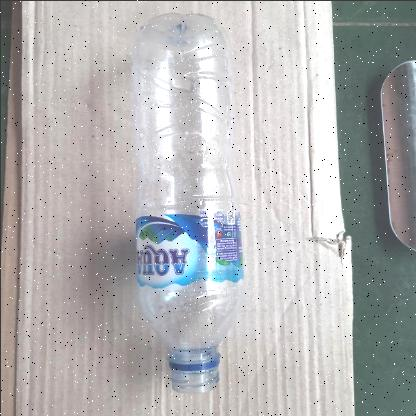Plastic Bottle: (112, 6, 248, 404)
